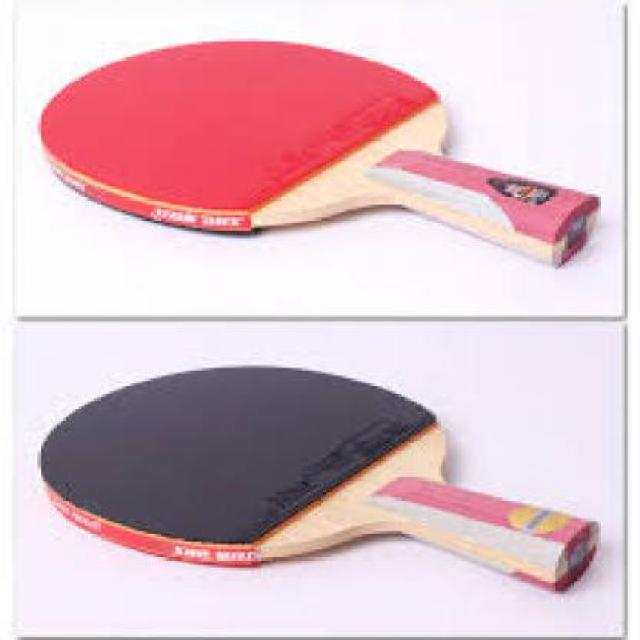table_tennis_racket: (31, 359, 452, 570), (33, 37, 458, 234)
